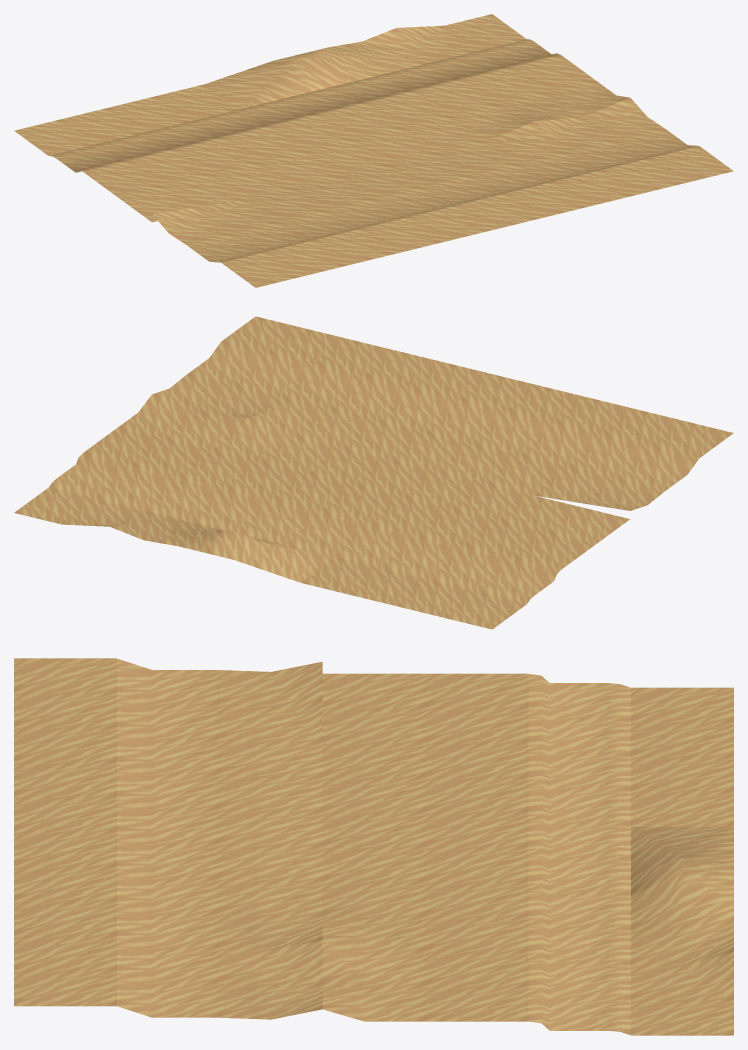
File: S0_Floor1.FBX
The picture shows the model from 3 angles, top to bottom: view 1: azimuth 30°, elevation 25°; view 2: azimuth 150°, elevation 25°; view 3: azimuth 270°, elevation 25°; orthographic projection. The views are drawn at different scales.
Parts seen in each view (by area): view 1: S0_Floor015, S0_Floor007, S0_Floor024, S0_Floor026, S0_Floor022, S0_Floor035, S0_Floor031, S0_Floor0, S0_Floor001, S0_Floor002, S0_Floor025, S0_Floor033 (+10 smaller); view 2: S0_Floor015, S0_Floor007, S0_Floor040, S0_Floor034, S0_Floor039, S0_Floor037, S0_Floor038, S0_Floor003, S0_Floor021, S0_Floor001, S0_Floor033, S0_Floor0 (+10 smaller); view 3: S0_Floor015, S0_Floor007, S0_Floor026, S0_Floor022, S0_Floor031, S0_Floor003, S0_Floor021, S0_Floor039, S0_Floor032, S0_Floor035, S0_Floor036, S0_Floor033 (+10 smaller).
Boxes of the visible parts, bbox=[...] form: S0_Floor015: bbox=[118, 80, 664, 244]; S0_Floor007: bbox=[187, 128, 698, 262]; S0_Floor024: bbox=[205, 54, 335, 108]; S0_Floor026: bbox=[302, 28, 430, 85]; S0_Floor022: bbox=[397, 14, 526, 62]; S0_Floor035: bbox=[370, 78, 499, 126]; S0_Floor031: bbox=[83, 148, 212, 196]; S0_Floor0: bbox=[413, 193, 542, 241]; S0_Floor001: bbox=[317, 216, 446, 264]; S0_Floor002: bbox=[508, 169, 637, 217]; S0_Floor025: bbox=[110, 84, 239, 132]; S0_Floor033: bbox=[274, 102, 403, 150]; S0_Floor015: bbox=[118, 374, 664, 544]; S0_Floor007: bbox=[187, 341, 698, 491]; S0_Floor040: bbox=[431, 546, 560, 604]; S0_Floor034: bbox=[49, 453, 178, 510]; S0_Floor039: bbox=[336, 523, 465, 580]; S0_Floor037: bbox=[144, 476, 273, 532]; S0_Floor038: bbox=[241, 499, 369, 557]; S0_Floor003: bbox=[221, 316, 350, 364]; S0_Floor021: bbox=[397, 581, 526, 629]; S0_Floor001: bbox=[508, 386, 637, 434]; S0_Floor033: bbox=[275, 474, 403, 522]; S0_Floor0: bbox=[413, 363, 542, 411]; S0_Floor015: bbox=[219, 661, 425, 1021]; S0_Floor007: bbox=[117, 658, 219, 1017]; S0_Floor026: bbox=[631, 871, 733, 965]; S0_Floor022: bbox=[631, 952, 733, 1035]; S0_Floor031: bbox=[425, 673, 528, 743]; S0_Floor003: bbox=[14, 936, 116, 1006]; S0_Floor021: bbox=[631, 687, 733, 757]; S0_Floor039: bbox=[528, 743, 630, 826]; S0_Floor032: bbox=[425, 743, 528, 812]; S0_Floor035: bbox=[425, 882, 528, 951]; S0_Floor036: bbox=[425, 952, 528, 1021]; S0_Floor033: bbox=[425, 813, 528, 882].
Bounding box in the file's own units: 80000 × 70000 × 3140.
1 material, 1 textured.
